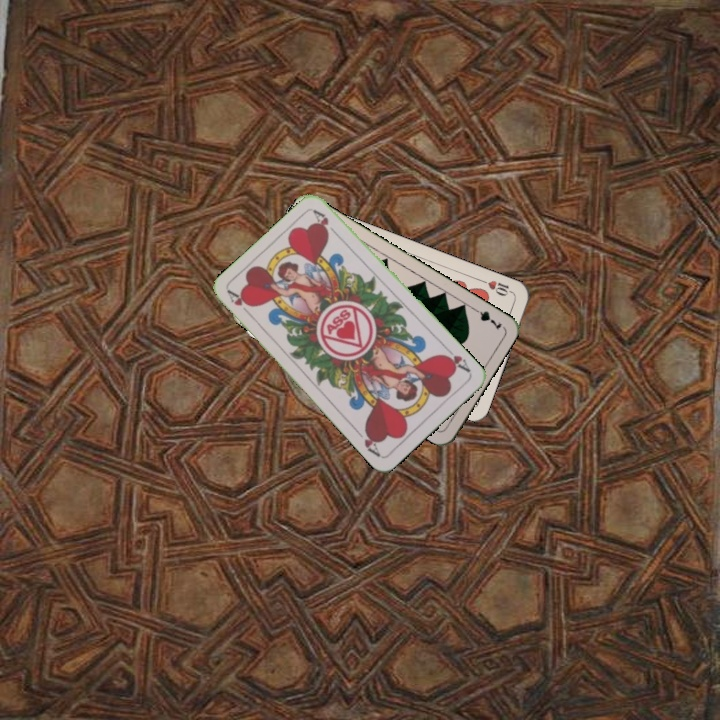G7: (468, 303, 504, 333)
H10: (477, 275, 516, 299)
HA: (439, 343, 473, 375), (224, 286, 256, 320)
